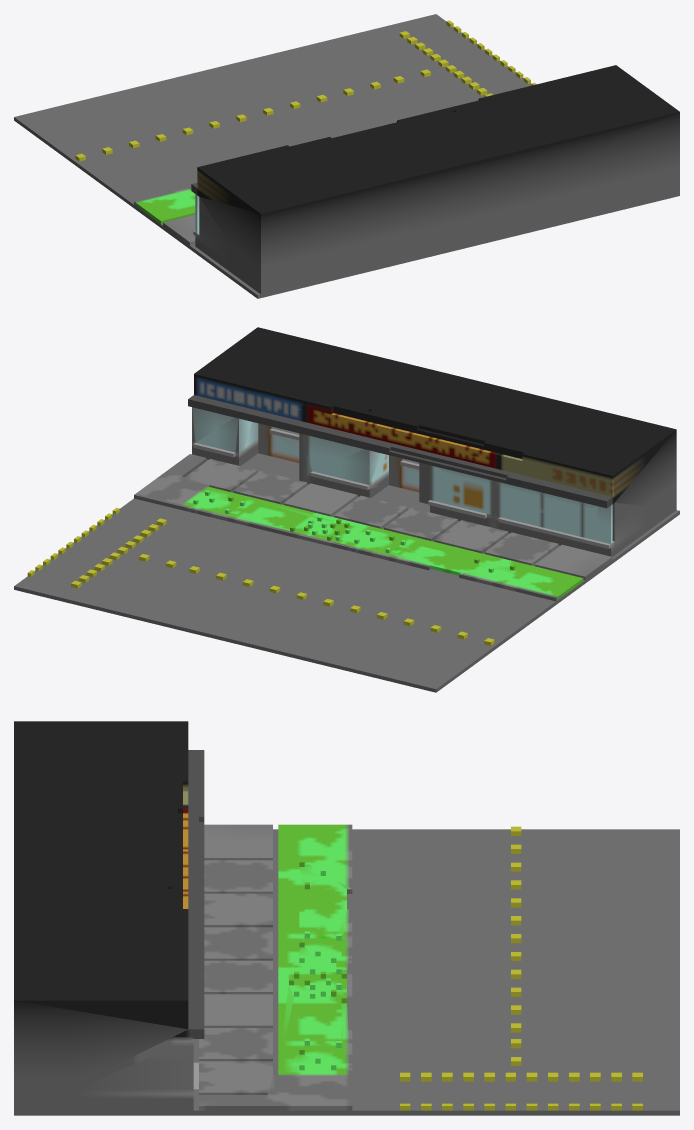
File: scene_boss.dae
3 views of the same model, one above another, from view 1: azimuth 30°, elevation 25°; view 2: azimuth 150°, elevation 25°; view 3: azimuth 270°, elevation 25° (orthographic). The views are drawn at different scales.
Visible parts, largest first — view 1: scene_boss; view 2: scene_boss; view 3: scene_boss.
Boxes of the visible parts, left/top/right/bottom form: scene_boss: left=14, top=14, right=679, bottom=298; scene_boss: left=14, top=327, right=679, bottom=692; scene_boss: left=14, top=721, right=679, bottom=1115.
Bounding box in the file's own units: 12.6 × 12.6 × 2.4.
